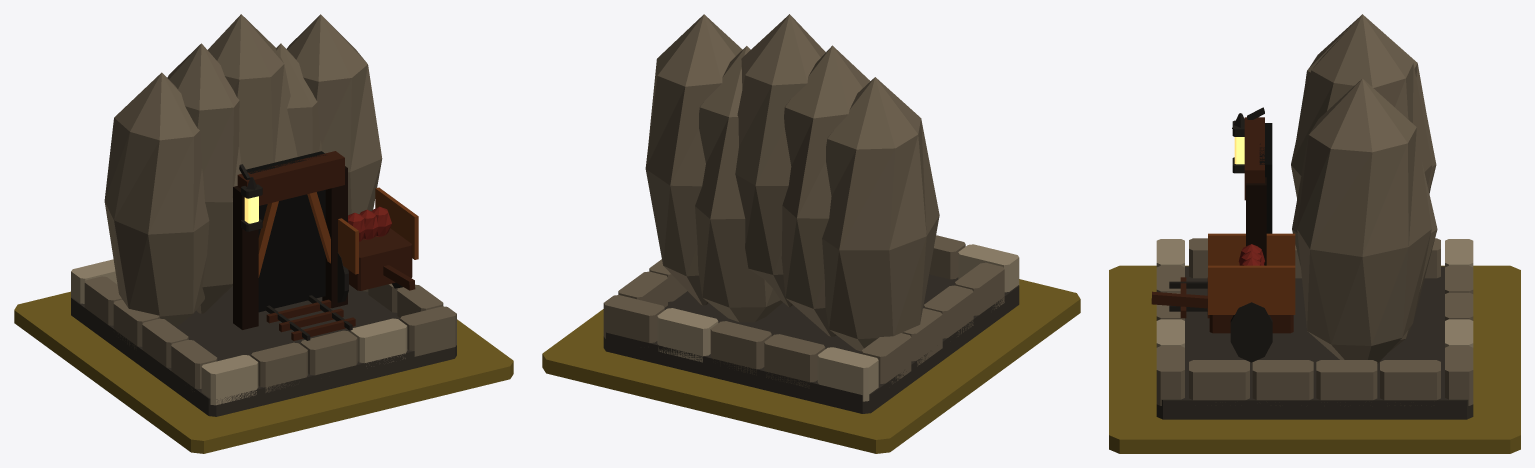
File: emberglass_t5.glb
3 renders of one model, left to right at view 1: azimuth 30°, elevation 25°; view 2: azimuth 150°, elevation 25°; view 3: azimuth 270°, elevation 25°, orthographic. The views are drawn at different scales.
Parts seen in each view (by area): view 1: MMR | emberglass | T05 Architecture.001, MMR | emberglass | Tier 05 Ground.001; view 2: MMR | emberglass | T05 Architecture.001, MMR | emberglass | Tier 05 Ground.001; view 3: MMR | emberglass | T05 Architecture.001, MMR | emberglass | Tier 05 Ground.001.
Boxes of the visible parts, x1,y1,x2,y2 form: MMR | emberglass | T05 Architecture.001: (71,14,456,416); MMR | emberglass | Tier 05 Ground.001: (14,291,513,453); MMR | emberglass | T05 Architecture.001: (603,14,1019,413); MMR | emberglass | Tier 05 Ground.001: (542,279,1080,453); MMR | emberglass | T05 Architecture.001: (1151,14,1473,419); MMR | emberglass | Tier 05 Ground.001: (1109,265,1520,453).
Size of the model in its own units: 1.3 by 1.23 by 1.3.
Materials: 2 (1 with a texture image).
